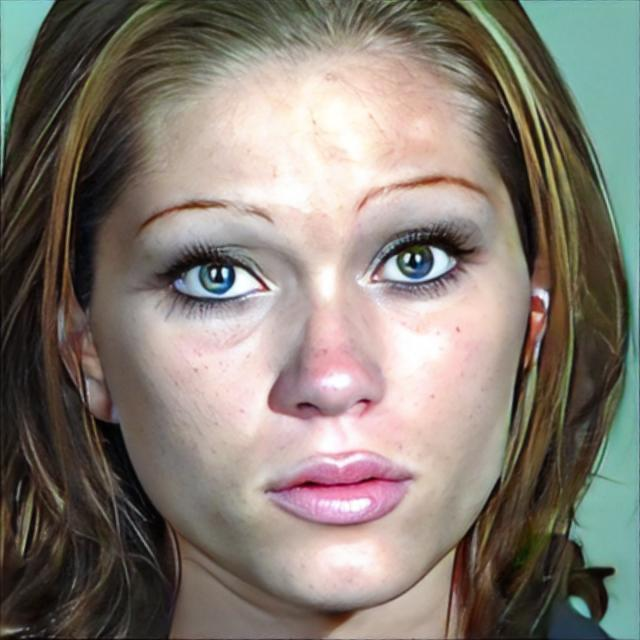surprise: (96, 48, 535, 612)
